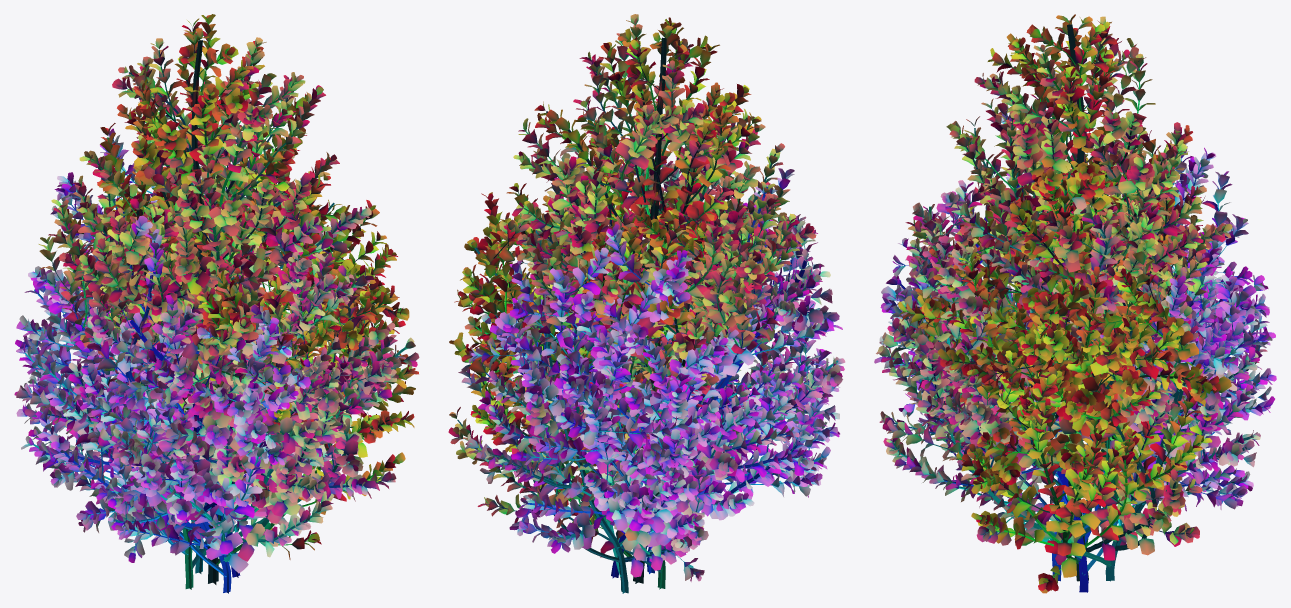
File: Boxwood_wfypfa3ha_Low_wfypfa3ha_VarE_LOD0.fbx
The picture shows the model from 3 angles, left to right: view 1: azimuth 30°, elevation 25°; view 2: azimuth 150°, elevation 25°; view 3: azimuth 270°, elevation 25°; orthographic projection.
Visible parts, largest first — view 1: _swyb_VarE_LOD2; view 2: _swyb_VarE_LOD2; view 3: _swyb_VarE_LOD2.
Boxes of the visible parts, bbox=[...] form: _swyb_VarE_LOD2: bbox=[14, 14, 419, 593]; _swyb_VarE_LOD2: bbox=[448, 14, 845, 593]; _swyb_VarE_LOD2: bbox=[874, 14, 1276, 593].
Bounding box in the file's own units: 80.68 × 123 × 80.06.
